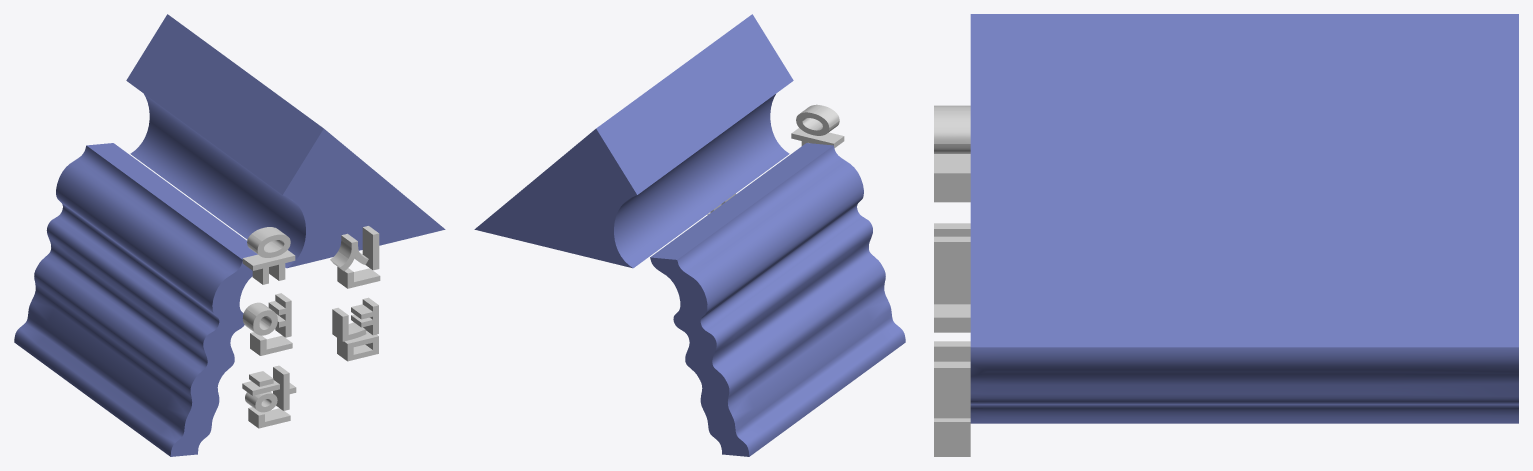
File: sun.gltf
The picture shows the model from 3 angles, left to right: view 1: azimuth 30°, elevation 25°; view 2: azimuth 150°, elevation 25°; view 3: azimuth 270°, elevation 25°; orthographic projection. The views are drawn at different scales.
Parts seen in each view (by area): view 1: Body18, Body30, Body32, Body29, Body26, Body33, Body21, Body35, Body27, Body19, Body20, Body34 (+4 smaller); view 2: Body18, Body30, Body29, Body32; view 3: Body30, Body18, Body34, Body21, Body29, Body32, Body26, Body25, Body27.
Boxes of the visible parts, left/top/right/bottom form: Body18: left=14, top=143, right=257, bottom=456; Body30: left=126, top=14, right=445, bottom=268; Body32: left=242, top=250, right=295, bottom=284; Body29: left=247, top=227, right=290, bottom=257; Body26: left=337, top=330, right=378, bottom=361; Body33: left=242, top=302, right=277, bottom=335; Body21: left=351, top=297, right=378, bottom=335; Body35: left=330, top=233, right=368, bottom=271; Body27: left=332, top=307, right=366, bottom=341; Body19: left=268, top=293, right=291, bottom=337; Body20: left=250, top=332, right=292, bottom=355; Body34: left=362, top=226, right=379, bottom=270; Body18: left=650, top=143, right=905, bottom=456; Body30: left=474, top=14, right=793, bottom=268; Body29: left=796, top=104, right=839, bottom=135; Body32: left=791, top=128, right=844, bottom=148; Body30: left=970, top=14, right=1518, bottom=347; Body18: left=970, top=347, right=1518, bottom=423; Body34: left=934, top=236, right=970, bottom=304; Body21: left=934, top=361, right=970, bottom=418; Body29: left=934, top=105, right=970, bottom=153; Body32: left=934, top=154, right=970, bottom=202; Body26: left=934, top=418, right=970, bottom=452; Body25: left=934, top=304, right=970, bottom=326; Body27: left=934, top=341, right=970, bottom=361.
Size of the model in its own units: 0.1523 by 0.1562 by 0.16.
